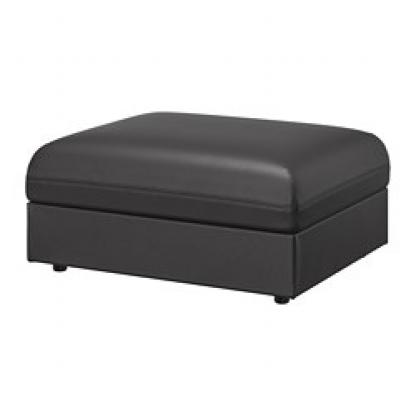Sofa: (22, 81, 389, 310)
